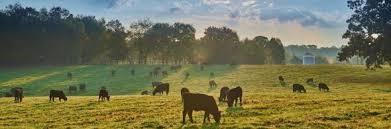cow: (180, 92, 224, 126), (225, 87, 242, 110), (49, 89, 67, 103), (152, 83, 169, 96), (12, 86, 23, 102), (98, 88, 110, 102), (292, 83, 307, 94), (317, 83, 330, 94), (68, 85, 76, 93), (210, 80, 218, 88), (307, 77, 315, 84), (78, 84, 86, 91)
